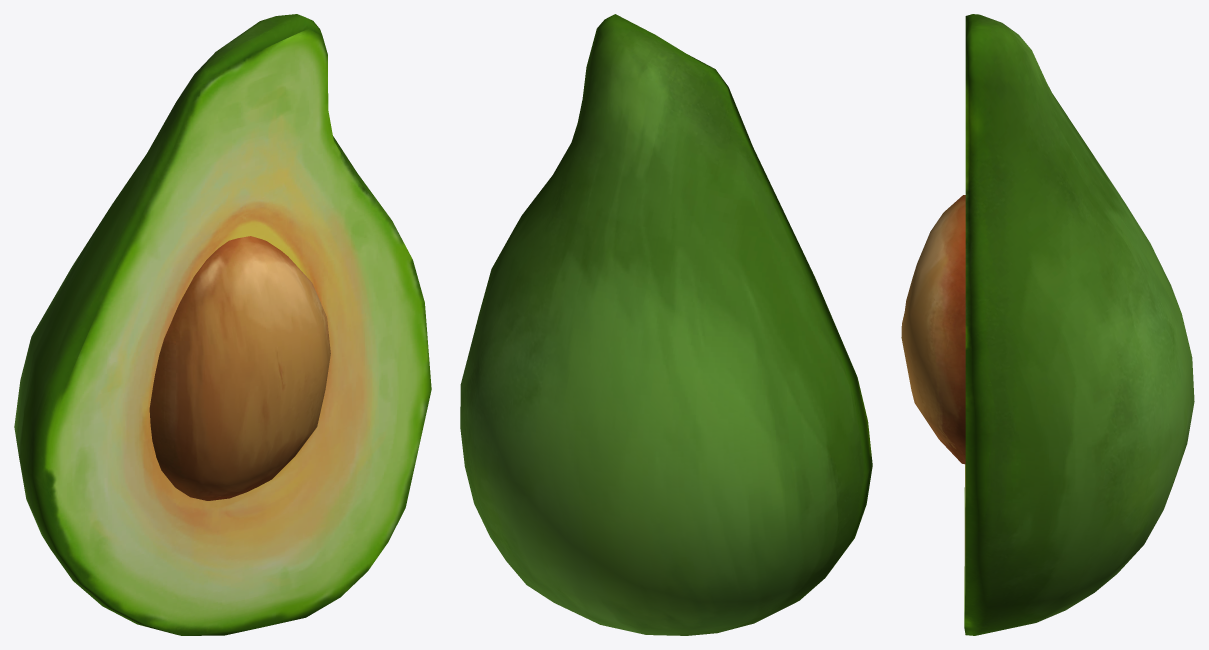
3 views of the same model, side by side, from view 1: azimuth 30°, elevation 25°; view 2: azimuth 150°, elevation 25°; view 3: azimuth 270°, elevation 25° (orthographic). The views are drawn at different scales.
Parts seen in each view (by area): view 1: Avocado; view 2: Avocado; view 3: Avocado.
Boxes of the visible parts, x1,y1,x2,y2 form: Avocado: (14, 14, 431, 635); Avocado: (460, 14, 872, 635); Avocado: (901, 14, 1194, 635).
Size of the model in its own units: 0.0426 by 0.0629 by 0.0276.
1 material, 1 textured.
